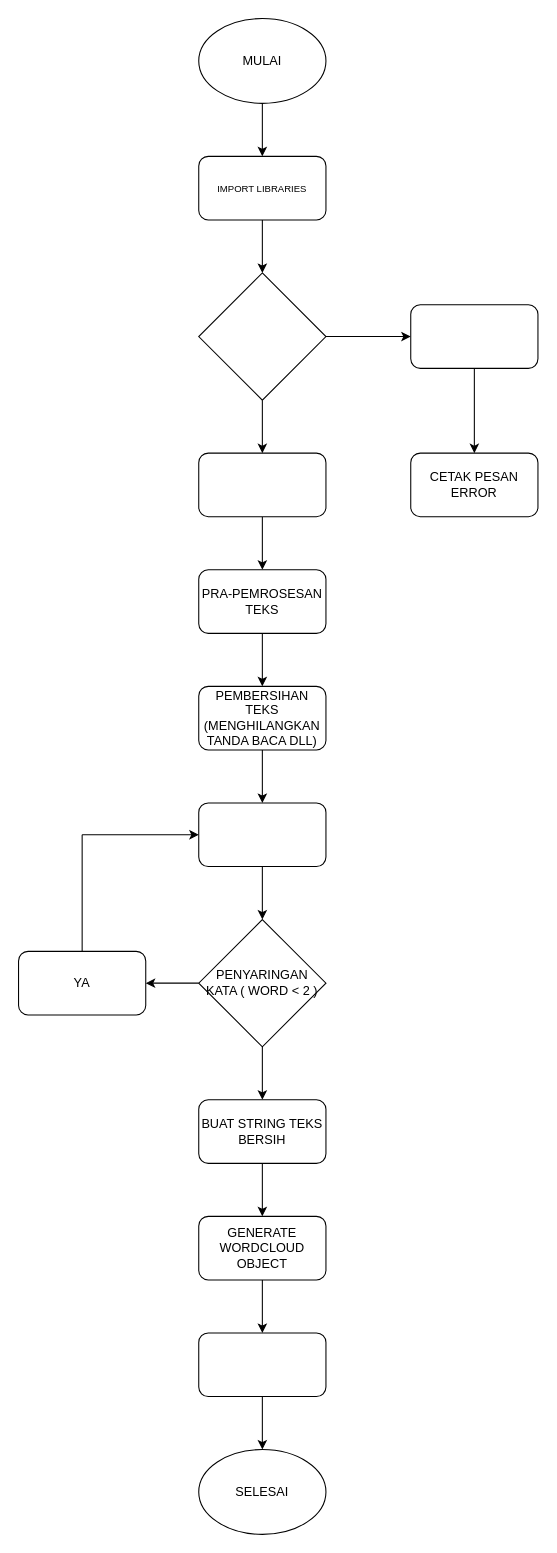
Image size: 557x1553. Some labels were removed from this diagram. Each missing label, with the centre of its shape:
INISIALISASI DATAFRAME: the point at 262,484
LOAD DATA: MEMBACA DATASET?: the point at 262,336
PEMBUATAN DAFTAR STOPWORDS: the point at 262,834
TAMPILKAN WORDCLOUD: the point at 262,1364
TIDAK (FileNotFound): the point at 474,336
